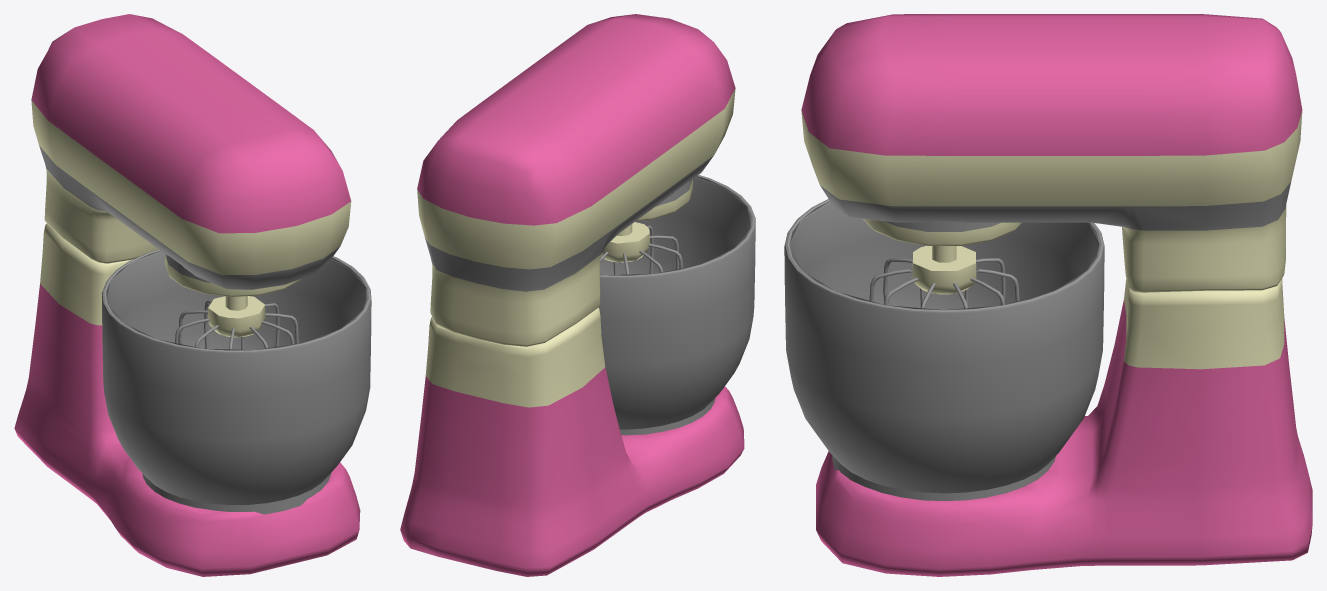
Rendered from Mixer.fbx.
3 views of the same model, side by side, from view 1: azimuth 30°, elevation 25°; view 2: azimuth 150°, elevation 25°; view 3: azimuth 270°, elevation 25° (orthographic). The views are drawn at different scales.
Visible parts, largest first — view 1: Cube.004, Cylinder.001, Cylinder.002; view 2: Cube.004, Cylinder.001, Cylinder.002; view 3: Cube.004, Cylinder.001, Cylinder.002.
Part boxes in pixels (x1=…): Cube.004: x1=14, y1=14, x2=360, y2=576; Cylinder.001: x1=101, y1=249, x2=371, y2=514; Cylinder.002: x1=165, y1=254, x2=300, y2=349; Cube.004: x1=400, y1=14, x2=744, y2=576; Cylinder.001: x1=599, y1=175, x2=755, y2=435; Cylinder.002: x1=600, y1=179, x2=692, y2=274; Cube.004: x1=801, y1=14, x2=1312, y2=576; Cylinder.001: x1=784, y1=199, x2=1104, y2=501; Cylinder.002: x1=863, y1=219, x2=1022, y2=308.
Bounding box in the file's own units: 70.87 × 119 × 117.
